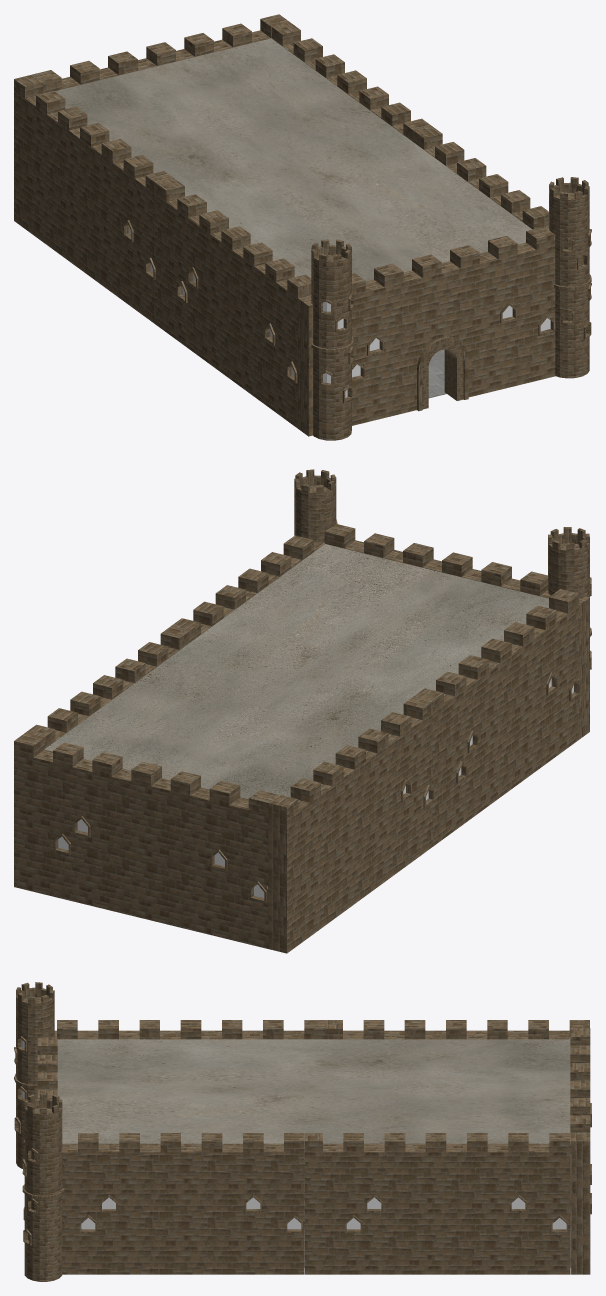
File: Castle_castle2.fbx
3 renders of one model, top to bottom at view 1: azimuth 30°, elevation 25°; view 2: azimuth 150°, elevation 25°; view 3: azimuth 270°, elevation 25°, orthographic. The views are drawn at different scales.
Parts seen in each view (by area): view 1: Castle_ceiling, Castle_Main.006, Castle_Main.001, Castle_Main.002, Castle_Tower, Castle_Tower2, Castle_Main.003, Castle_Main.004, Castle_Main.005, Castle_Door, Castle_Floor; view 2: Castle_ceiling, Castle_Main.003, Castle_Main.002, Castle_Main.001, Castle_Main.006, Castle_Main.004, Castle_Main.005, Castle_Tower, Castle_Tower2; view 3: Castle_ceiling, Castle_Main.004, Castle_Main.005, Castle_Tower2, Castle_Main.003, Castle_Main.001, Castle_Tower, Castle_Main.002, Castle_Main.006.
Part boxes in pixels (box(x1,y1,x2,y2)): Castle_ceiling: box(55, 38, 532, 281); Castle_Main.006: box(298, 226, 555, 436); Castle_Main.001: box(155, 178, 311, 428); Castle_Main.002: box(14, 74, 173, 323); Castle_Tower: box(311, 239, 353, 440); Castle_Tower2: box(549, 177, 591, 378); Castle_Main.003: box(32, 14, 289, 93); Castle_Main.004: box(271, 22, 430, 141); Castle_Main.005: box(413, 125, 555, 375); Castle_Door: box(417, 337, 463, 410); Castle_Floor: box(428, 349, 446, 398); Castle_ceiling: box(44, 543, 548, 799); Castle_Main.003: box(14, 733, 278, 948); Castle_Main.002: box(268, 696, 434, 953); Castle_Main.001: box(414, 589, 579, 846); Castle_Main.006: box(324, 524, 589, 739); Castle_Main.004: box(25, 626, 189, 748); Castle_Main.005: box(171, 535, 324, 642); Castle_Tower: box(548, 527, 591, 669); Castle_Tower2: box(294, 469, 337, 542); Castle_ceiling: box(57, 1037, 570, 1145); Castle_Main.004: box(305, 1133, 569, 1274); Castle_Main.005: box(62, 1133, 304, 1274); Castle_Tower2: box(22, 1093, 64, 1281); Castle_Main.003: box(570, 1028, 591, 1274); Castle_Main.001: box(57, 1020, 324, 1039); Castle_Tower: box(14, 982, 54, 1168); Castle_Main.002: box(325, 1020, 589, 1039); Castle_Main.006: box(37, 1030, 57, 1099).
Bounding box in the file's own units: 2190 × 1361 × 4105.
